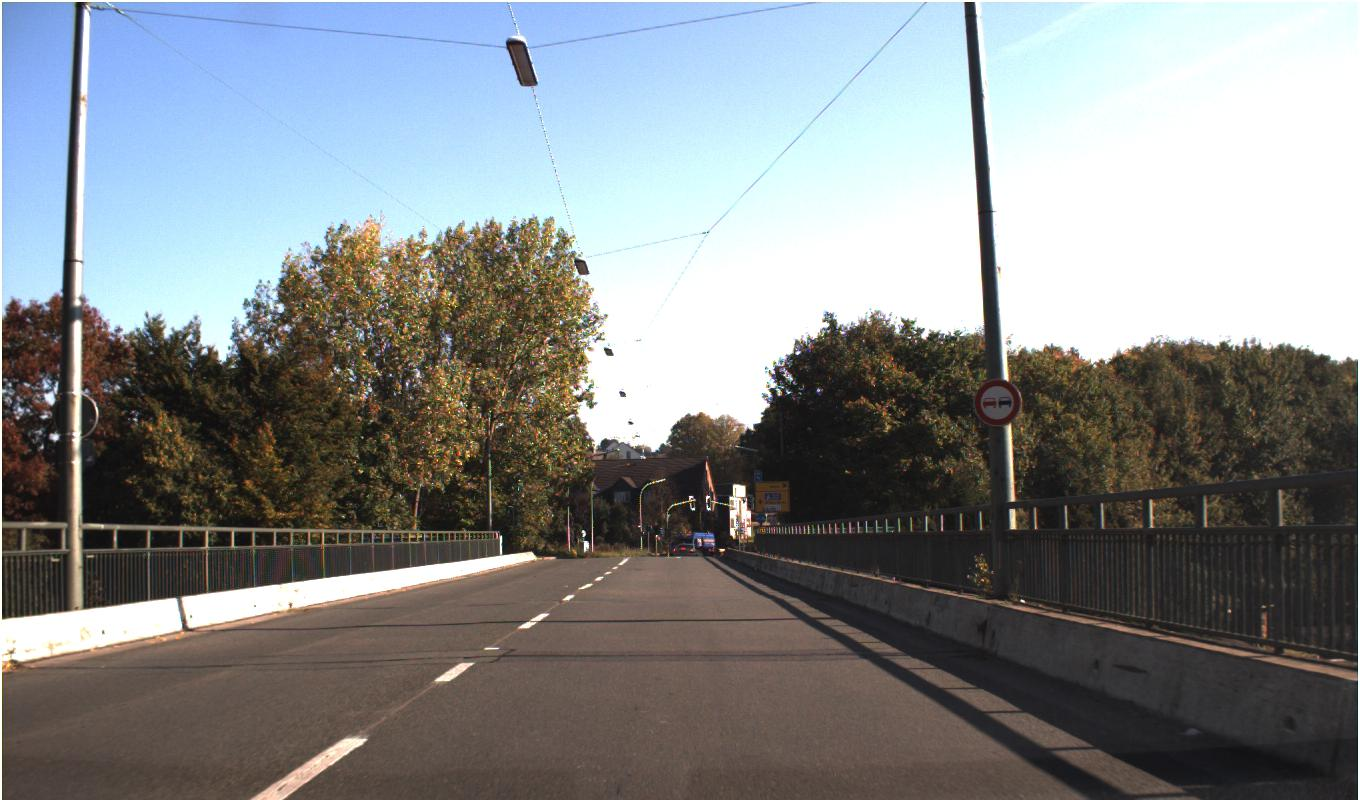prohibitory: (973, 377, 1022, 427)
